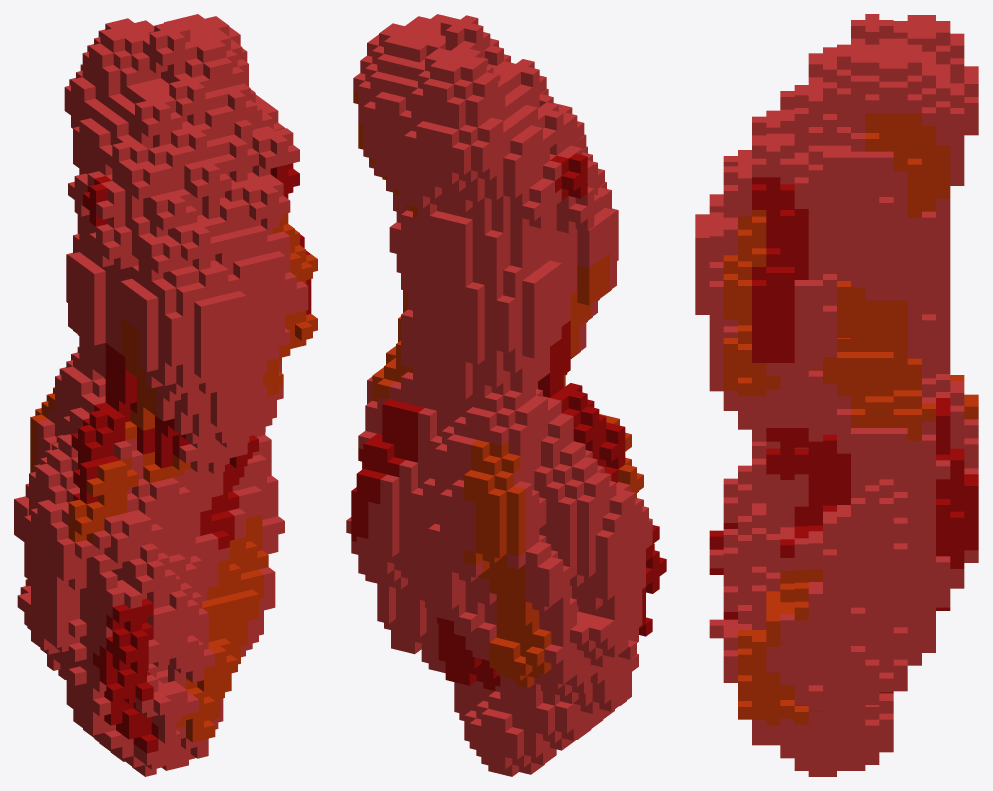
Rendered from sweet potato.fbx.
3 views of the same model, side by side, from view 1: azimuth 30°, elevation 25°; view 2: azimuth 150°, elevation 25°; view 3: azimuth 270°, elevation 25° (orthographic). The views are drawn at different scales.
Visible parts, largest first — view 1: Polygon; view 2: Polygon; view 3: Polygon.
Boxes of the visible parts, bbox=[...] form: Polygon: bbox=[14, 14, 317, 776]; Polygon: bbox=[346, 14, 666, 776]; Polygon: bbox=[695, 14, 978, 776].
Size of the model in its own units: 2 by 5.9 by 2.
1 material, 1 textured.
